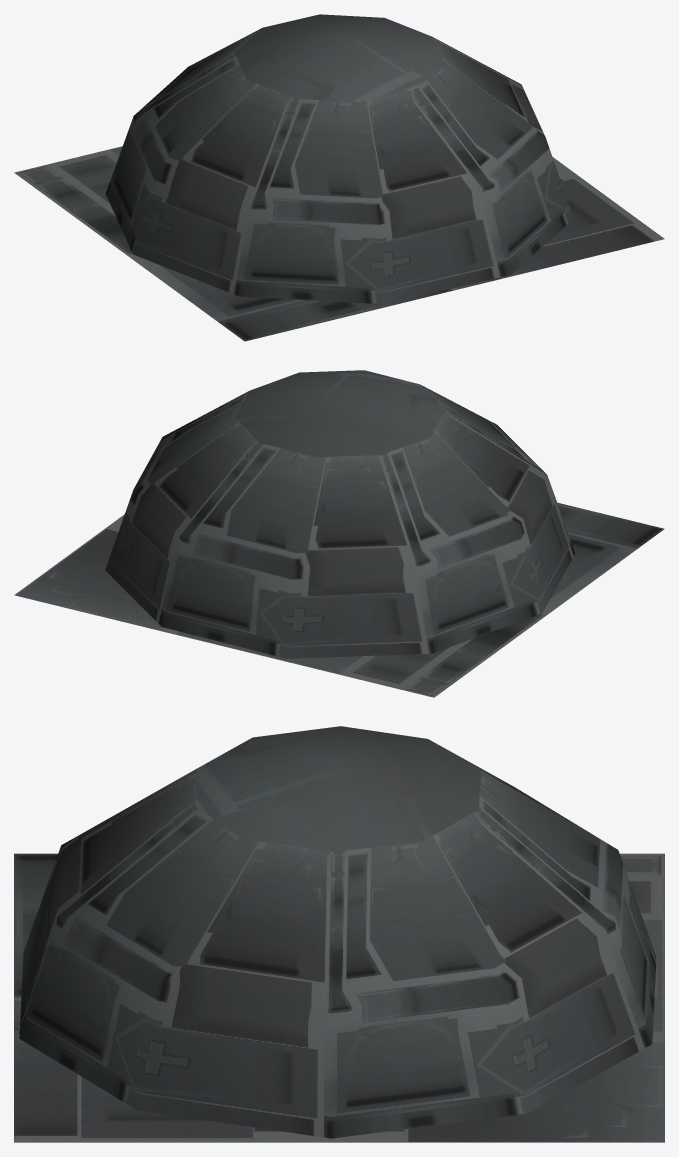
Rendered from Combined_Mesh_root_scene__14_f2bde634__churchyard_diffuse_03_7a3b1eb7_c1f257.obj.
3 renders of one model, top to bottom at view 1: azimuth 30°, elevation 25°; view 2: azimuth 150°, elevation 25°; view 3: azimuth 270°, elevation 25°, orthographic. The views are drawn at different scales.
Bounding box in the file's own units: 139 × 56.25 × 132.
190 materials, 190 textured.
